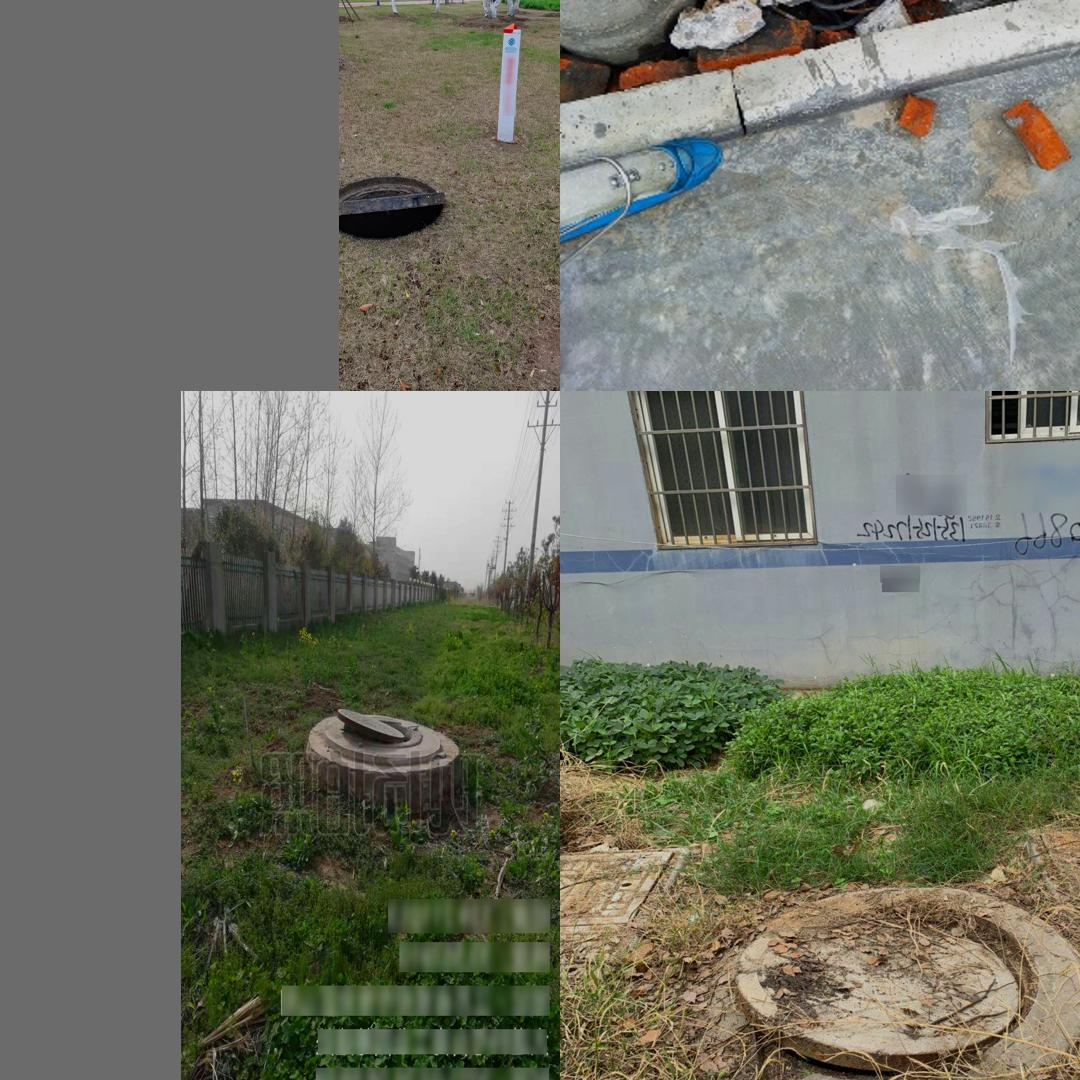uncovered: (734, 902, 1037, 1069), (339, 176, 442, 239), (321, 709, 439, 758), (719, 0, 938, 10)
